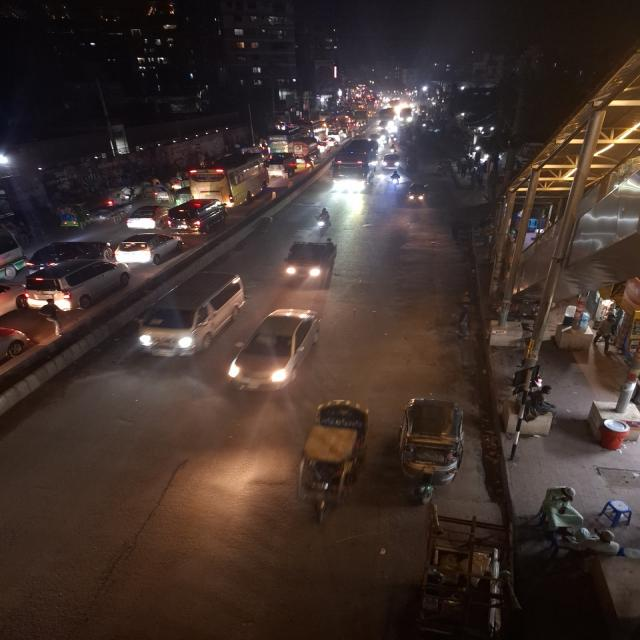bus: (186, 151, 272, 204), (332, 137, 379, 194)
car: (136, 270, 248, 362), (228, 305, 326, 395), (21, 257, 134, 315), (113, 232, 186, 266), (167, 198, 230, 236), (124, 202, 167, 230), (379, 152, 403, 170)
cng: (396, 396, 472, 506), (407, 181, 431, 206)
motorcycle: (315, 205, 333, 237), (388, 170, 402, 192)
pedestrian: (41, 300, 70, 338)
pickup_van: (280, 238, 341, 286)
rickshaw: (296, 396, 370, 532), (54, 202, 93, 231), (151, 182, 175, 204)
truck: (270, 150, 297, 180)
